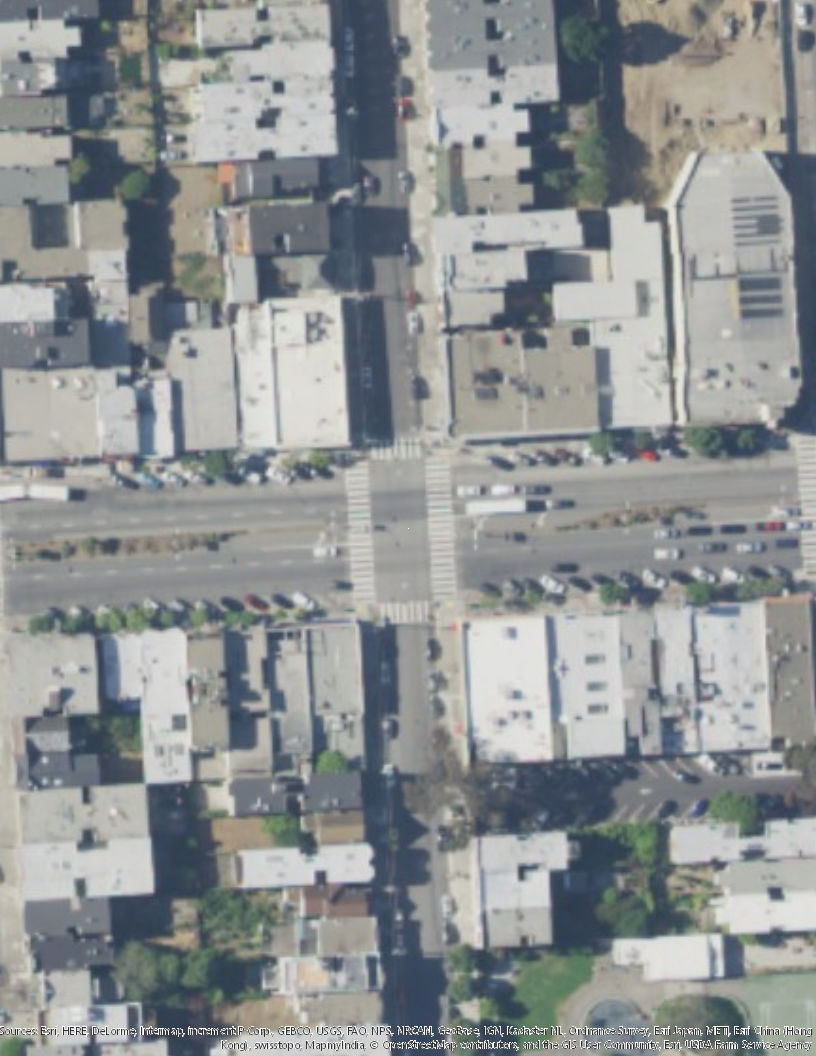zebracross: (345, 460, 378, 600), (430, 455, 455, 601), (795, 437, 816, 583), (378, 598, 430, 628), (363, 437, 424, 461)
